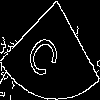C: (25, 25, 67, 83)
